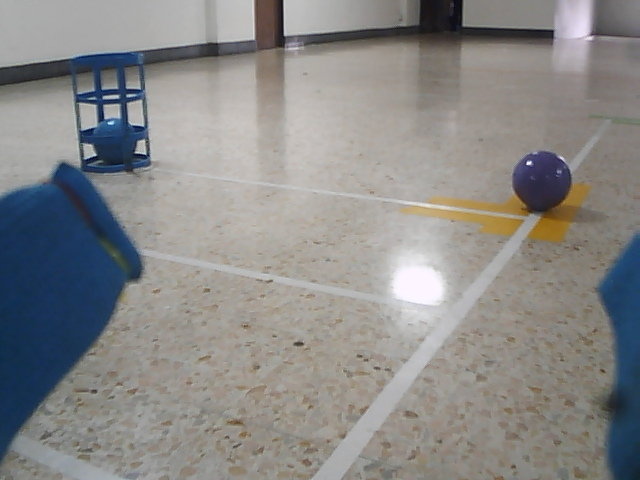Blue ball: (92, 117, 138, 163)
Cyro: (69, 48, 155, 178)
Purple ball: (510, 149, 574, 213)
